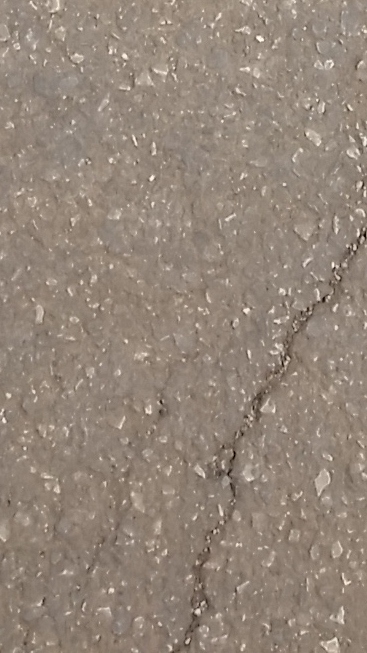A: (150, 195, 364, 642)
